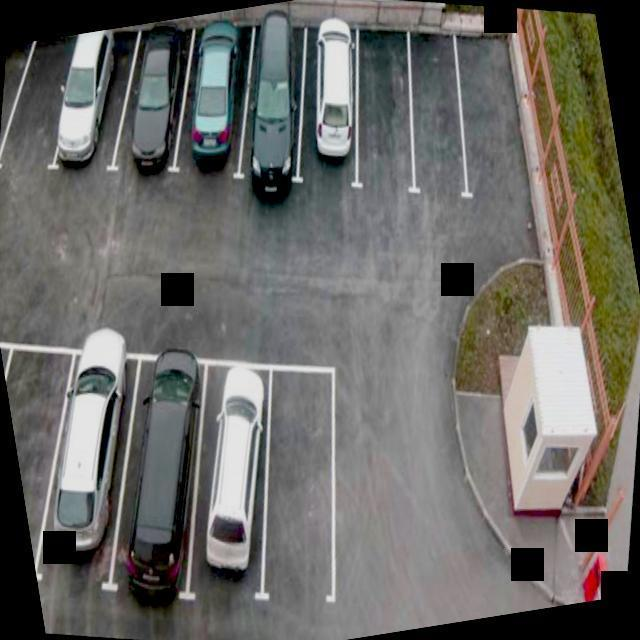car: (8, 304, 173, 598), (78, 334, 246, 612), (162, 352, 315, 615), (151, 8, 277, 192), (212, 4, 330, 196), (96, 16, 219, 192), (269, 11, 386, 193), (40, 25, 158, 180)
free: (216, 350, 388, 630), (0, 321, 97, 578), (426, 22, 556, 208), (326, 21, 442, 202), (381, 19, 491, 204), (0, 35, 93, 171)
